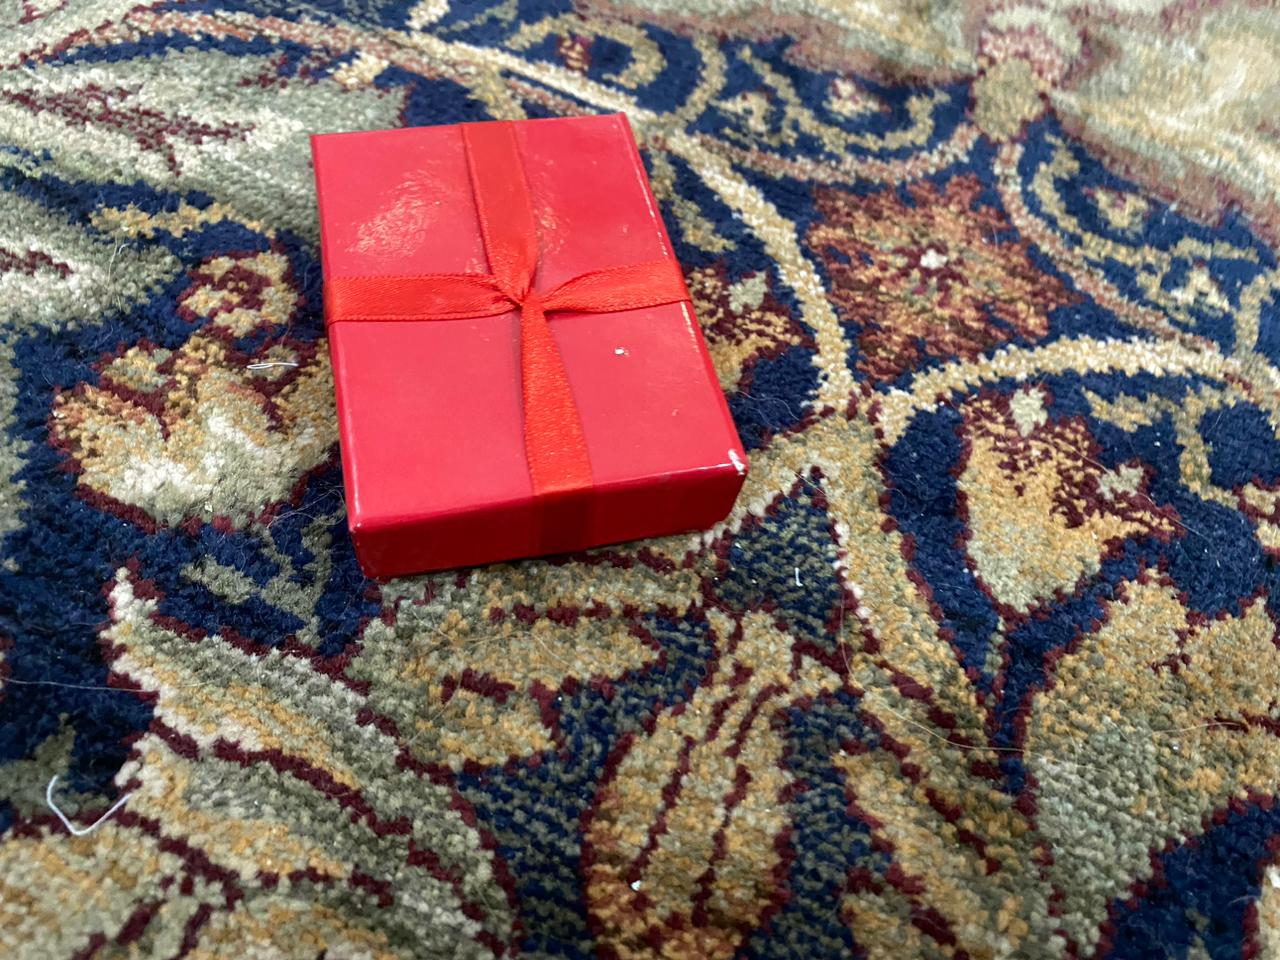Red Box: (295, 109, 751, 585)
